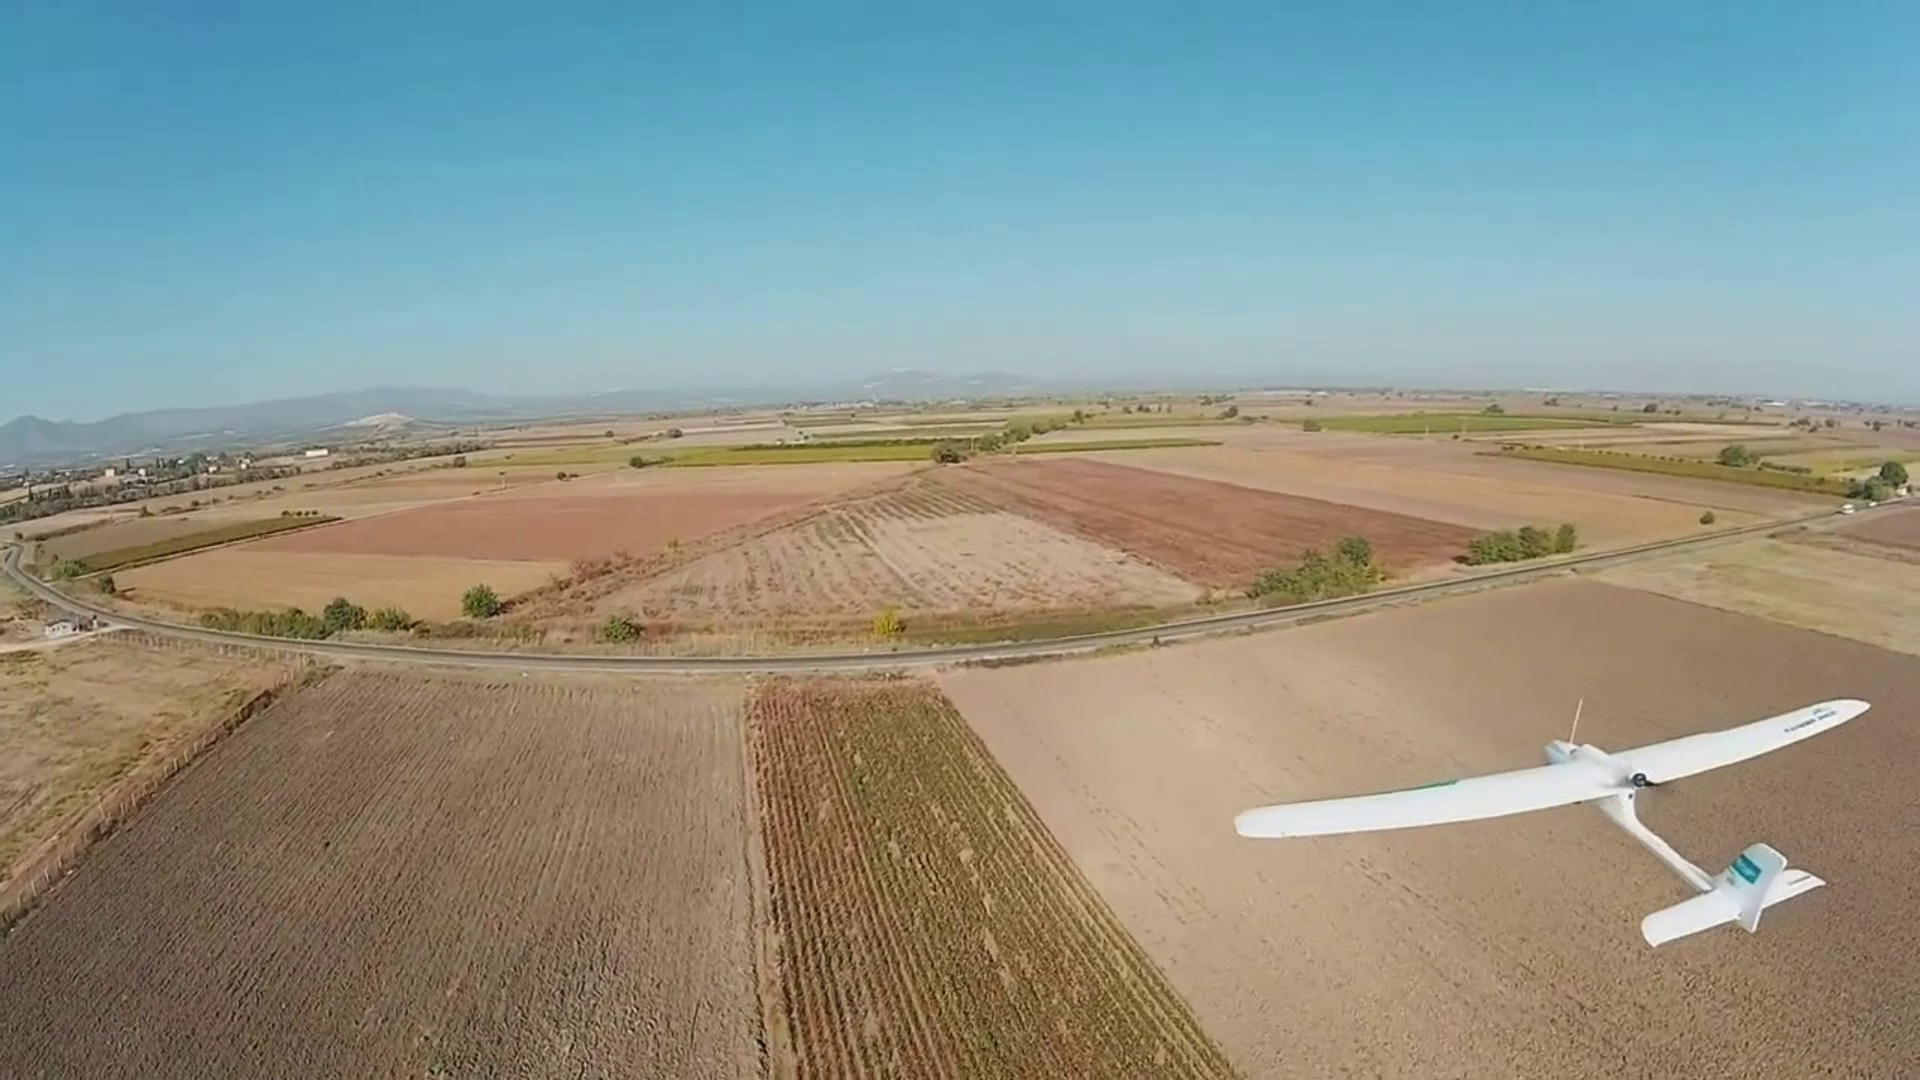airplane: (1234, 696, 1873, 947)
